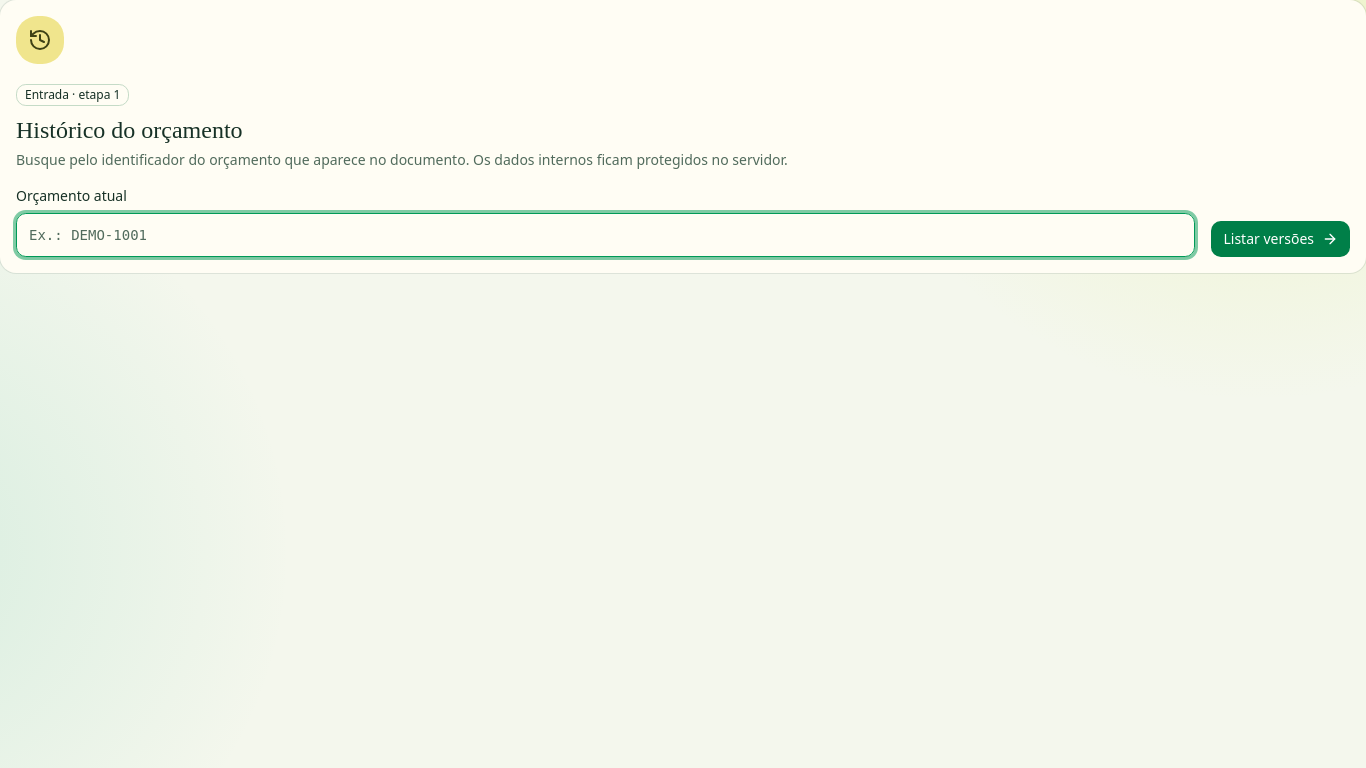
ferramentas de auditoria › exibe estado vazio quando o orçamento não possui versões
The width and height of the screenshot is (1366, 768).
Type "101" into the field labelled "Orçamento atual" at [606, 235], box [16,213,1195,257]
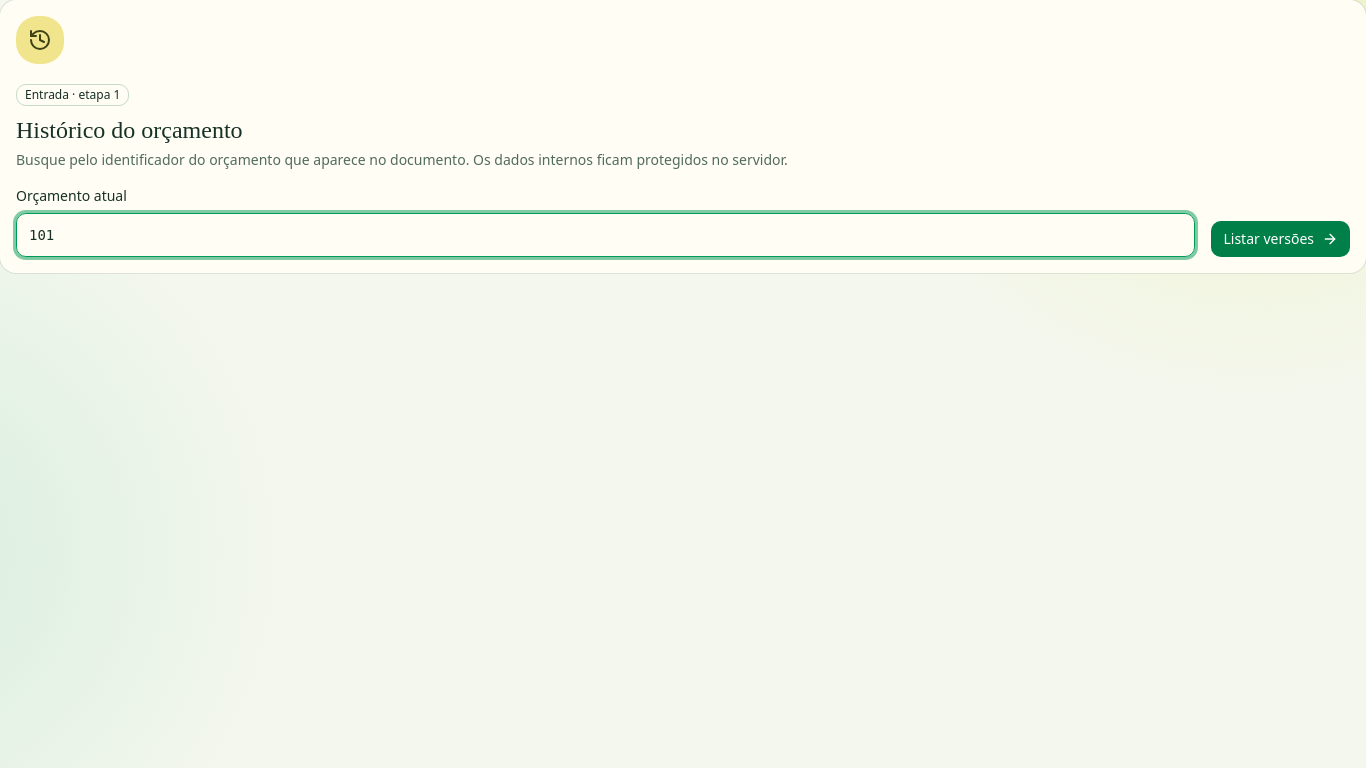
Click the button "Listar versões" at [1281, 239], box [1211,221,1350,257]
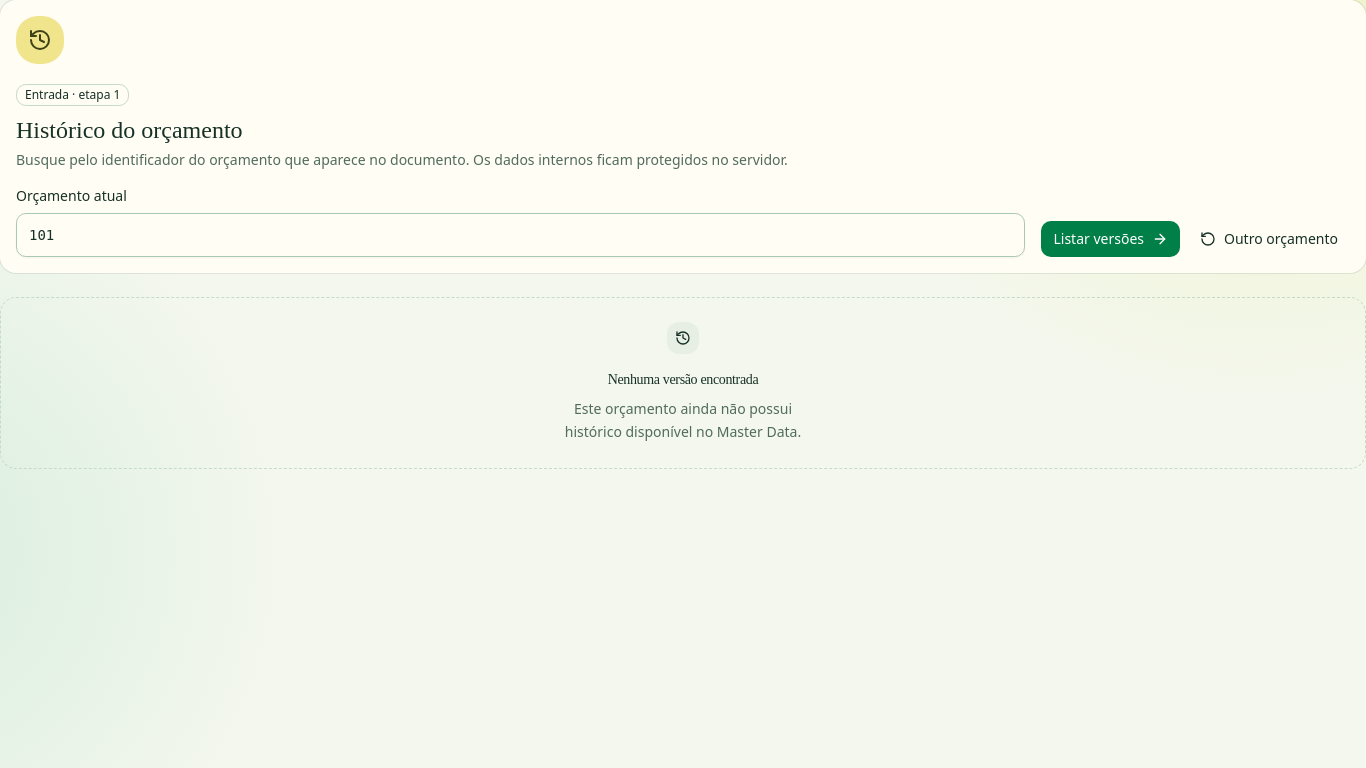
Expected: the text "Nenhuma versão encontrada" is shown, [608,370,758,390]
